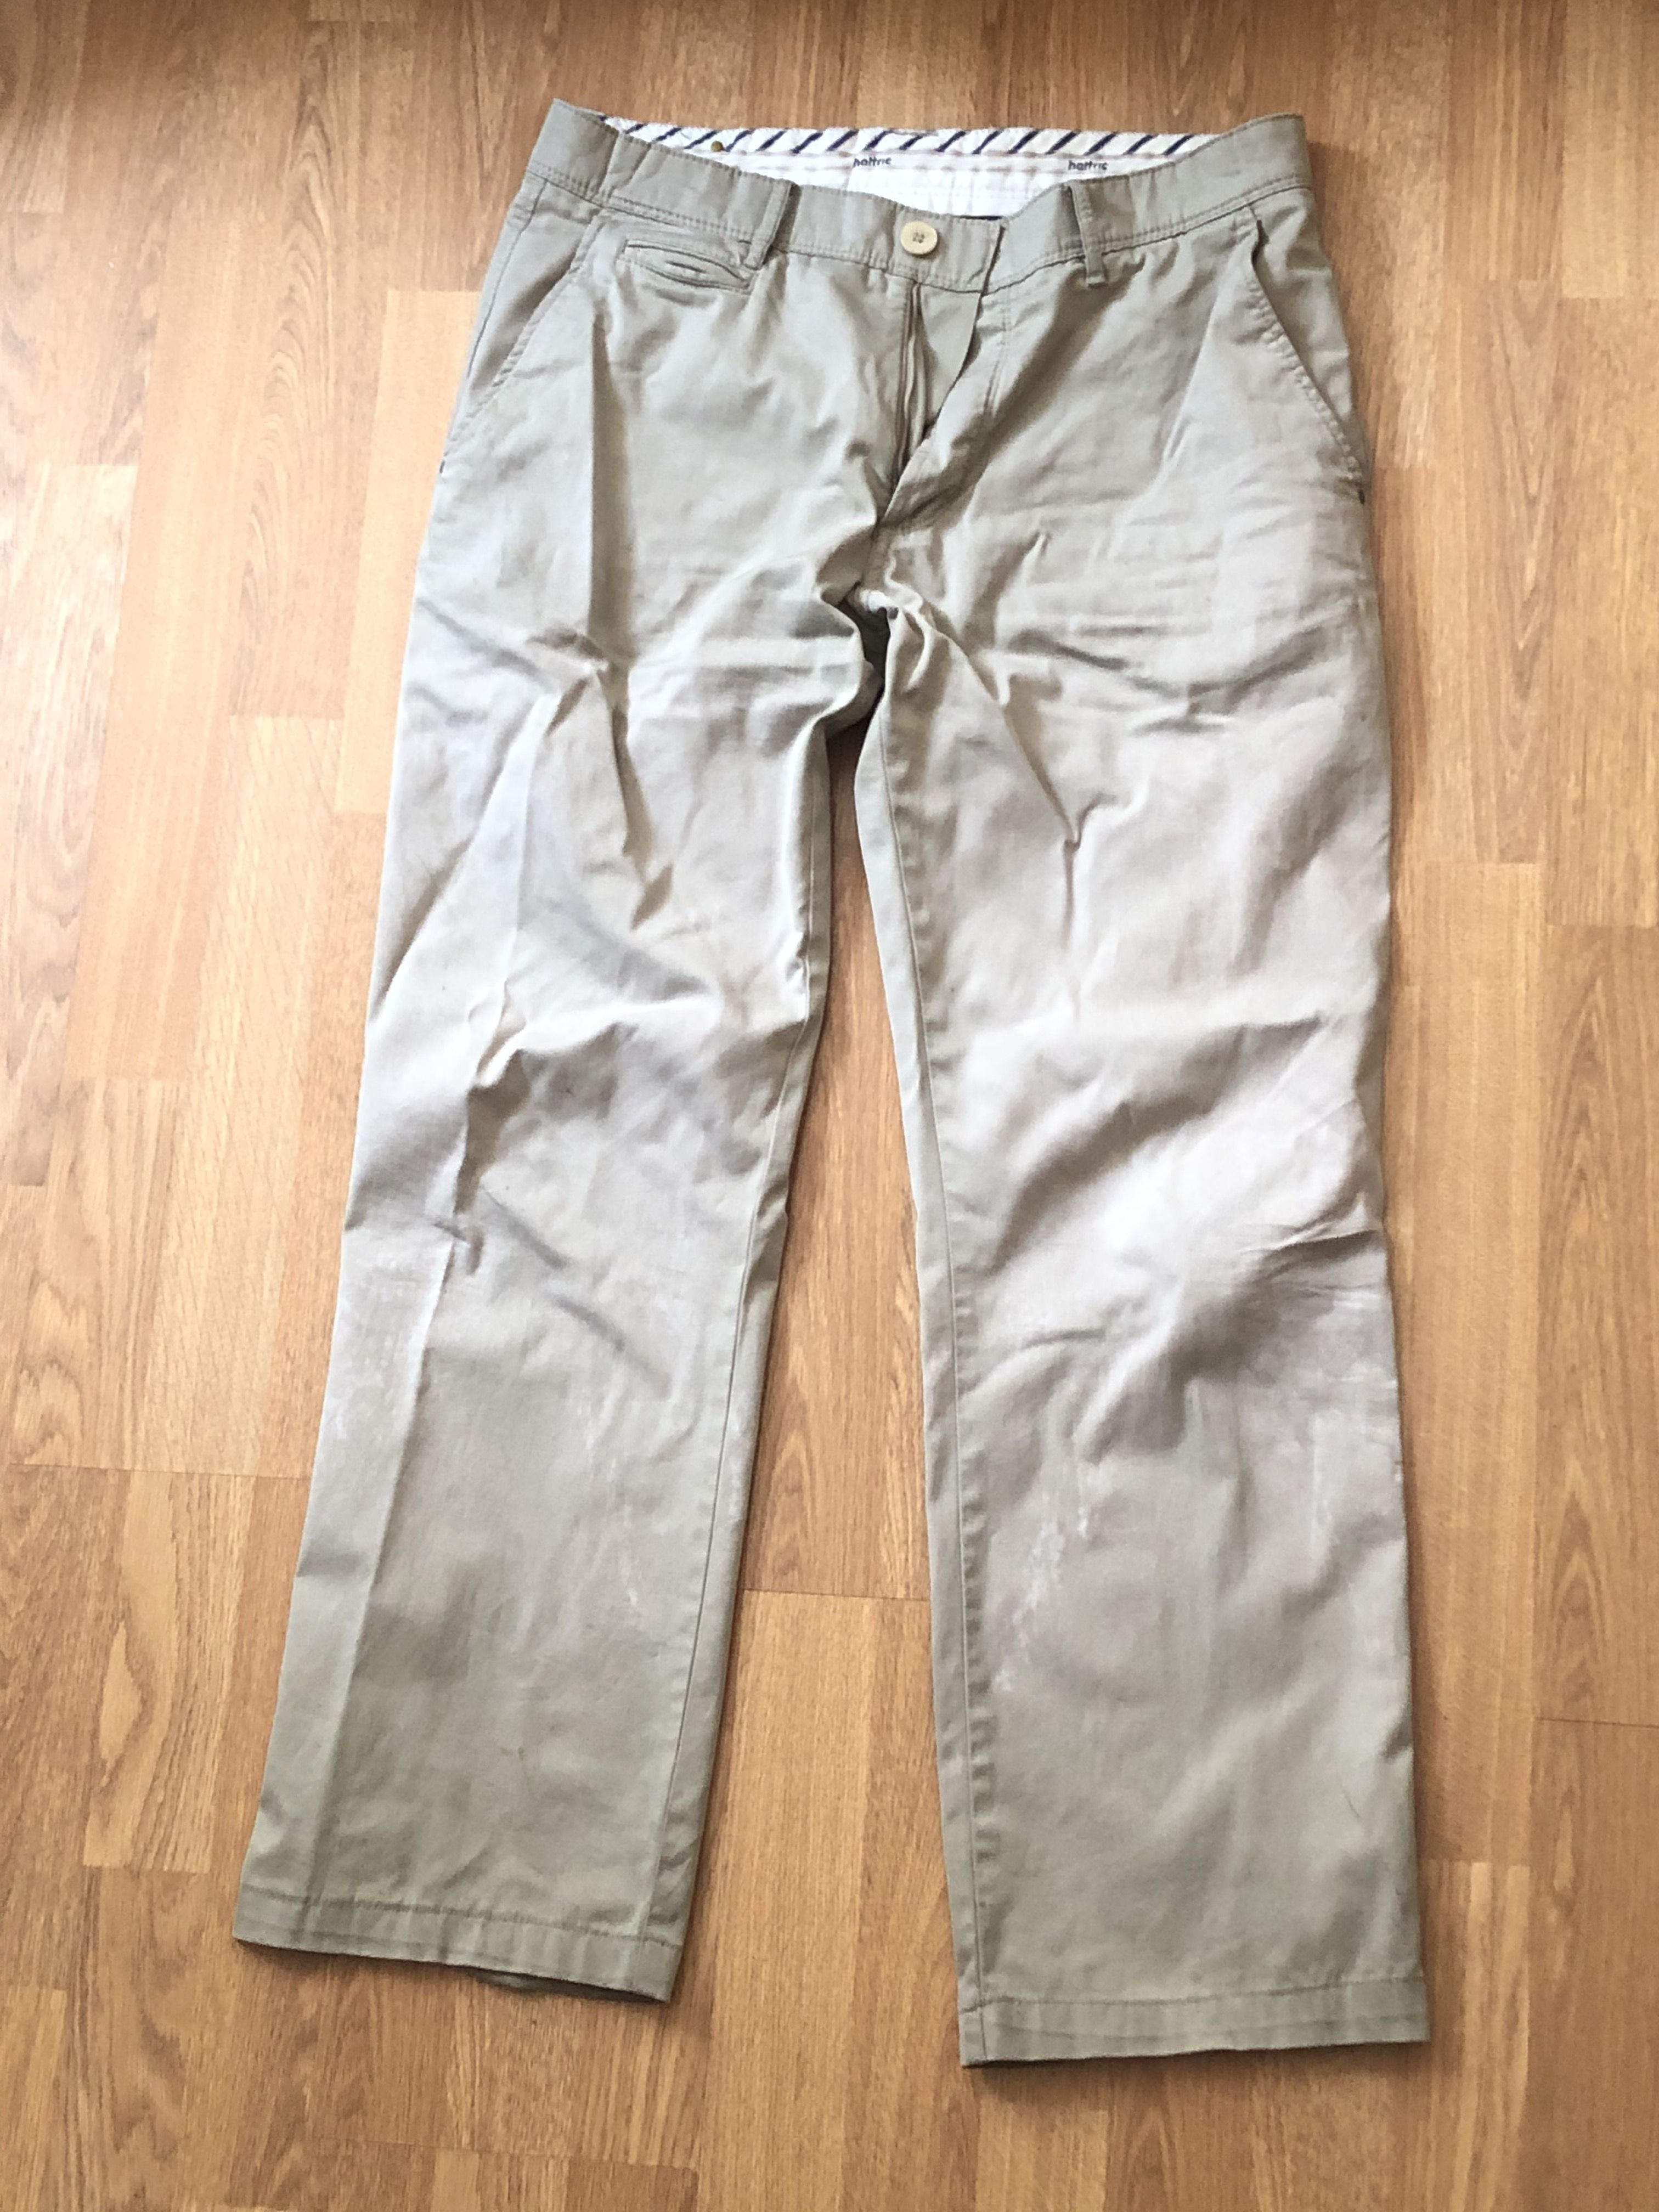clothes: (242, 94, 1439, 2057)
